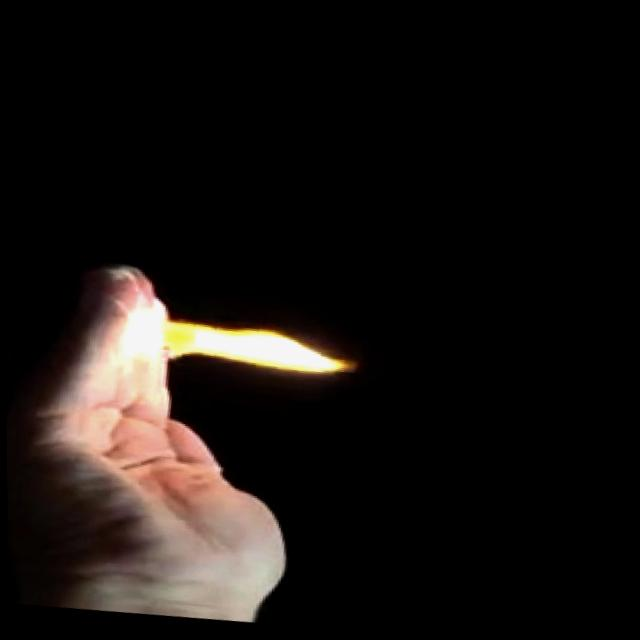helmet: (107, 295, 369, 397)
